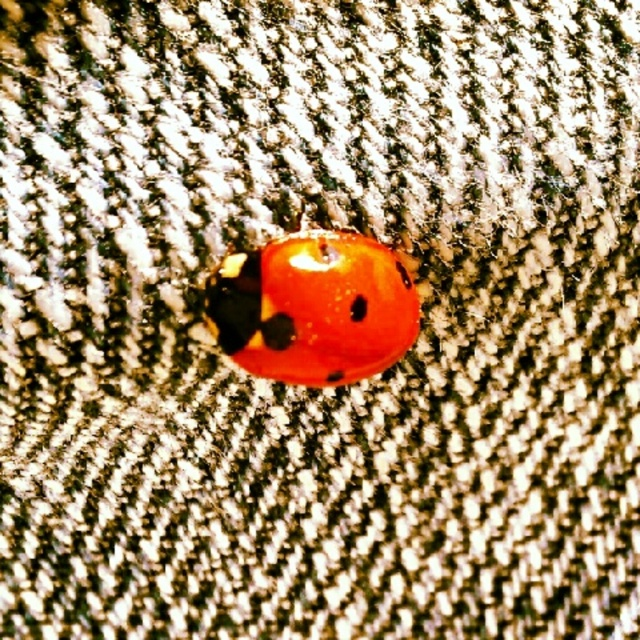Ladybug: (188, 232, 421, 385)
